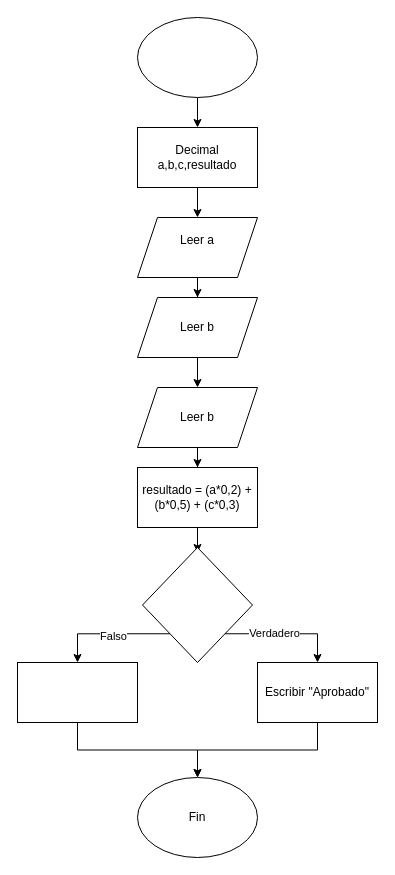
Some shapes in this 395 by 875 pixel diagram are drawn without their labels. The centre of each missing label's shape, as x and y in pixels:
Escribir "Suspenso": the point at 77,692
Inicio: the point at 197,57
resultado = > 5: the point at 197,604
